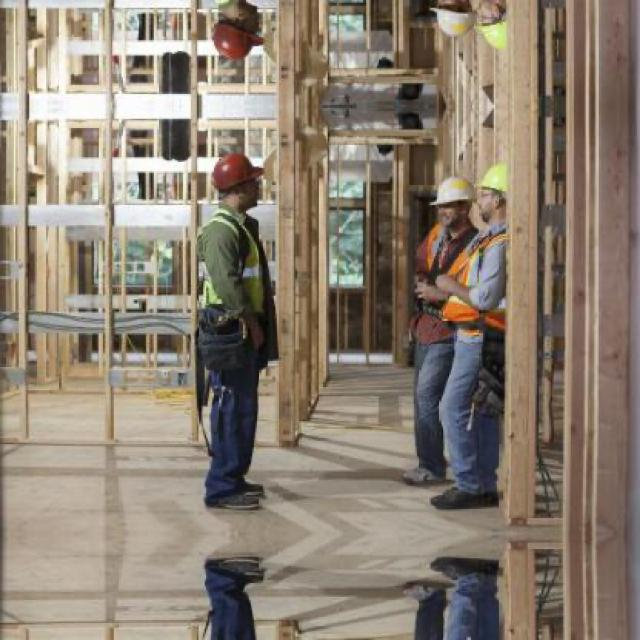con casco: (424, 157, 497, 238), (474, 166, 543, 222), (230, 140, 286, 208)
